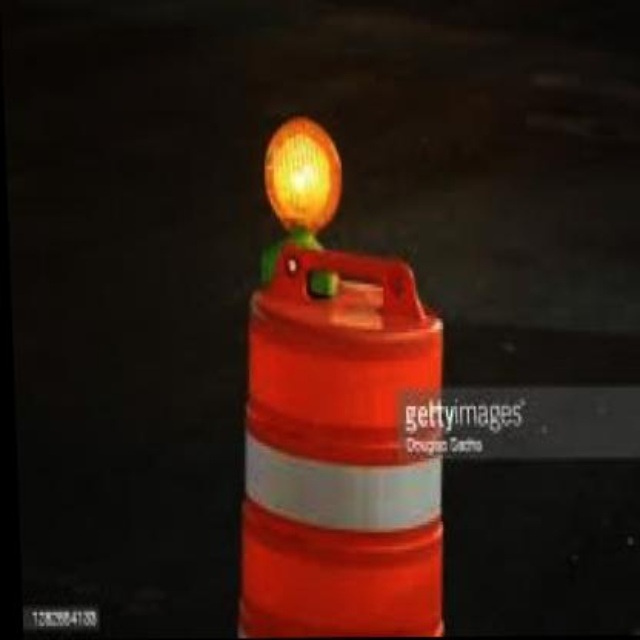obstacle: (193, 248, 454, 639)
